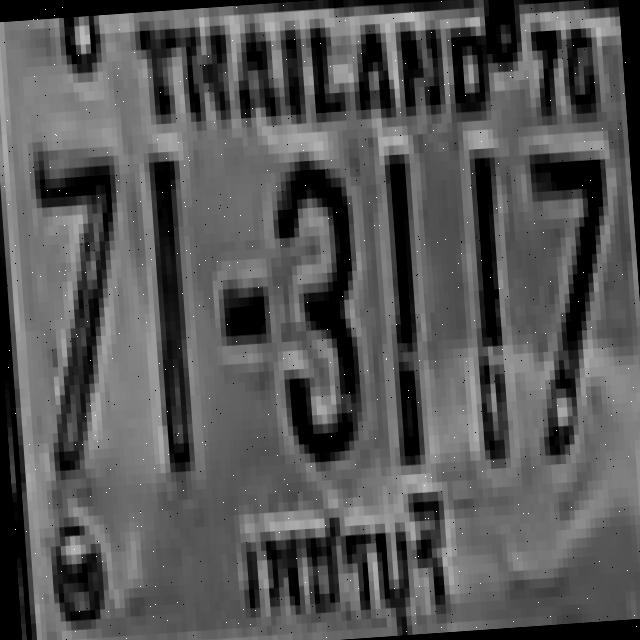1: (138, 150, 195, 472), (461, 143, 513, 464), (373, 149, 425, 461)
3: (263, 148, 364, 454)
7: (24, 142, 132, 476), (524, 140, 620, 456)
Phetchaburi: (232, 476, 462, 640)
